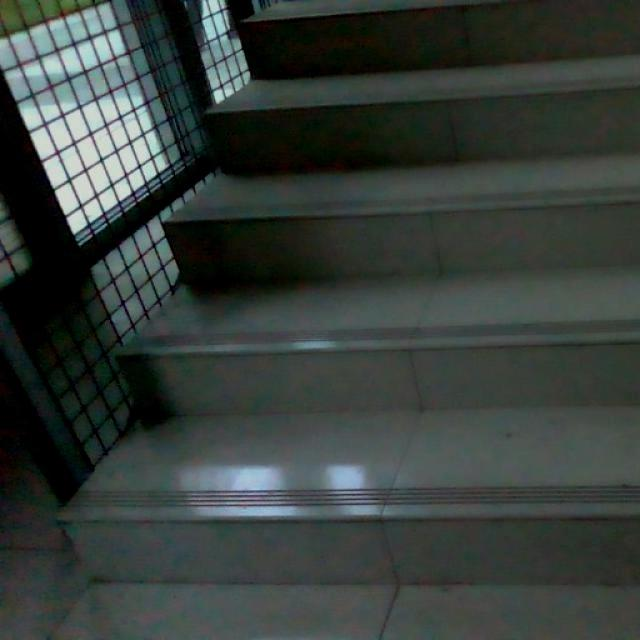stair: (63, 0, 640, 604)
